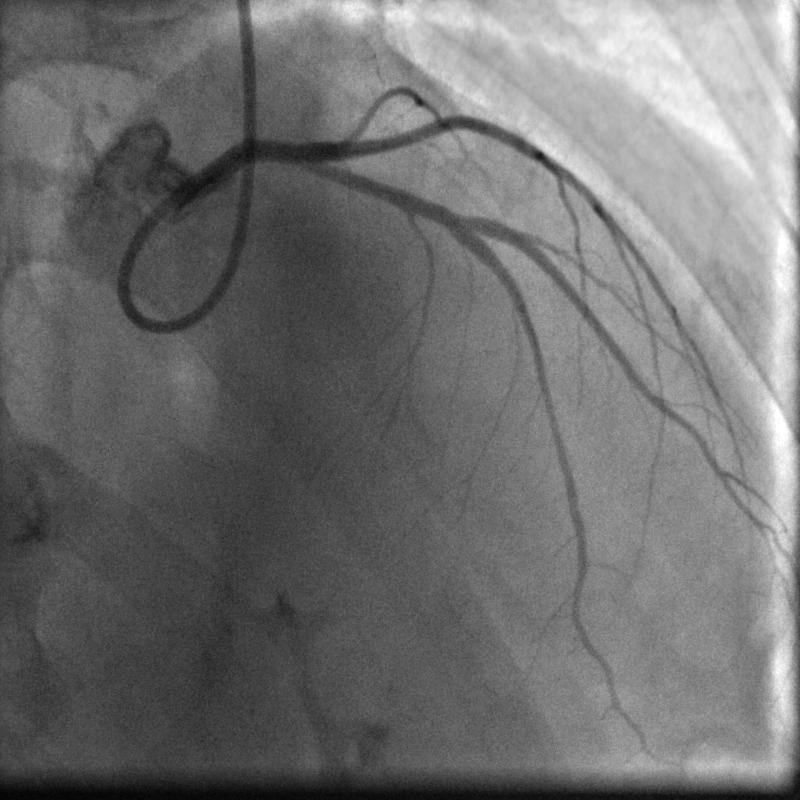Stenosis: (432, 199, 466, 237)
